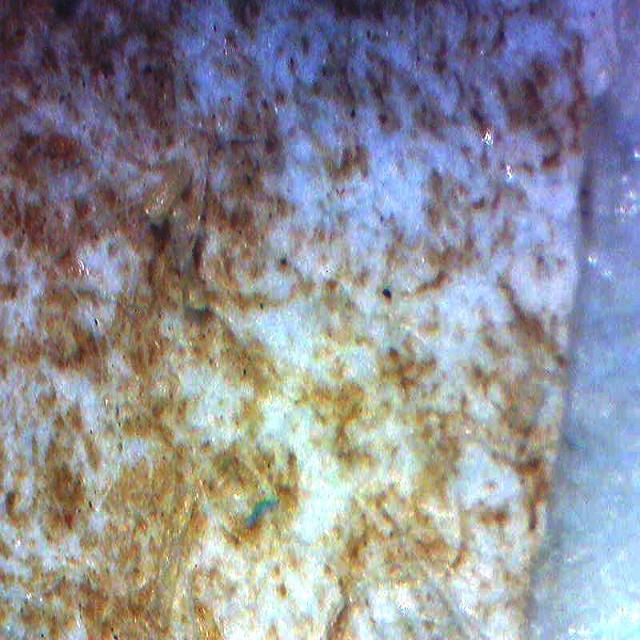microplastic: (247, 498, 279, 525)
